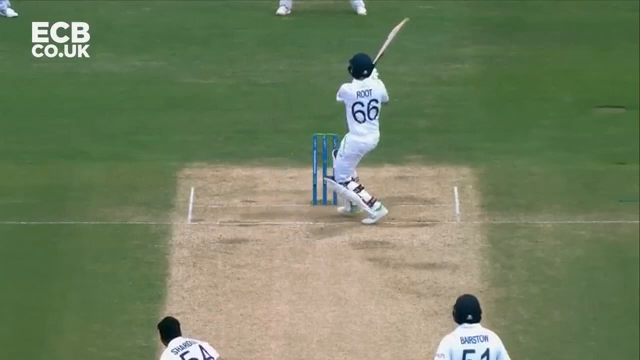batsman: (316, 52, 390, 223)
